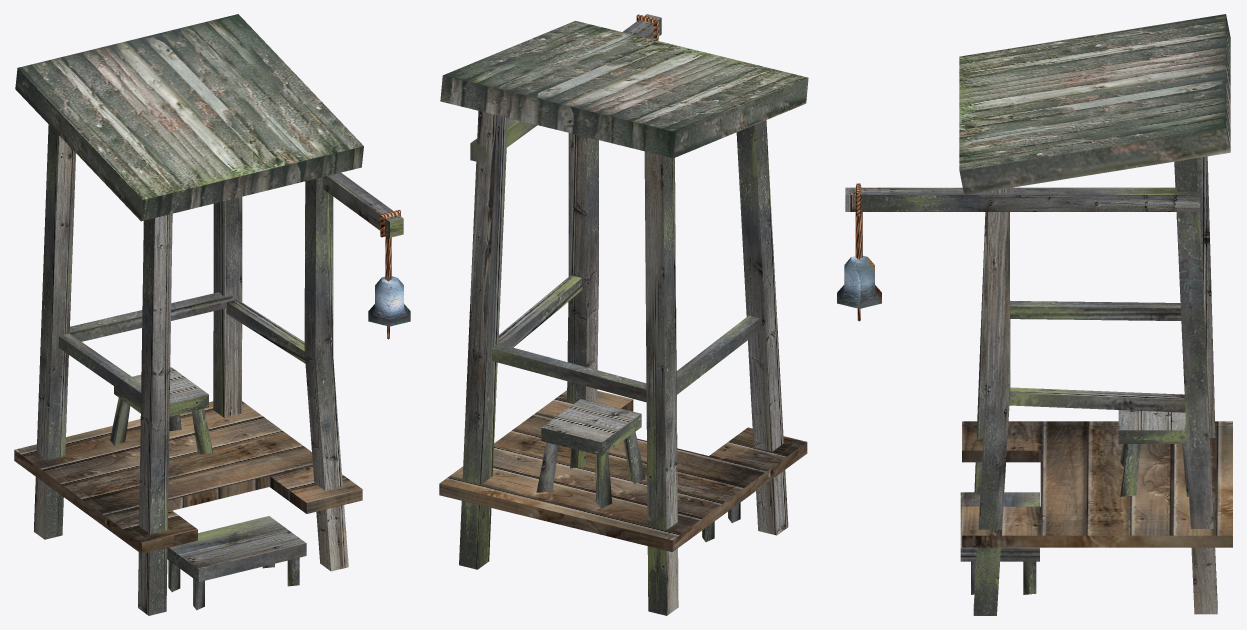
The model's file is building_watchpost.glb.
The picture shows the model from 3 angles, left to right: view 1: azimuth 30°, elevation 25°; view 2: azimuth 150°, elevation 25°; view 3: azimuth 270°, elevation 25°; orthographic projection. The views are drawn at different scales.
Visible parts, largest first — view 1: building_watchpost; view 2: building_watchpost; view 3: building_watchpost.
Boxes of the visible parts, x1=… form: building_watchpost: x1=14, y1=14, x2=410, y2=615; building_watchpost: x1=439, y1=14, x2=808, y2=615; building_watchpost: x1=837, y1=14, x2=1232, y2=615.
Size of the model in its own units: 2.05 by 4.15 by 3.
Materials: 5 (5 with a texture image).
